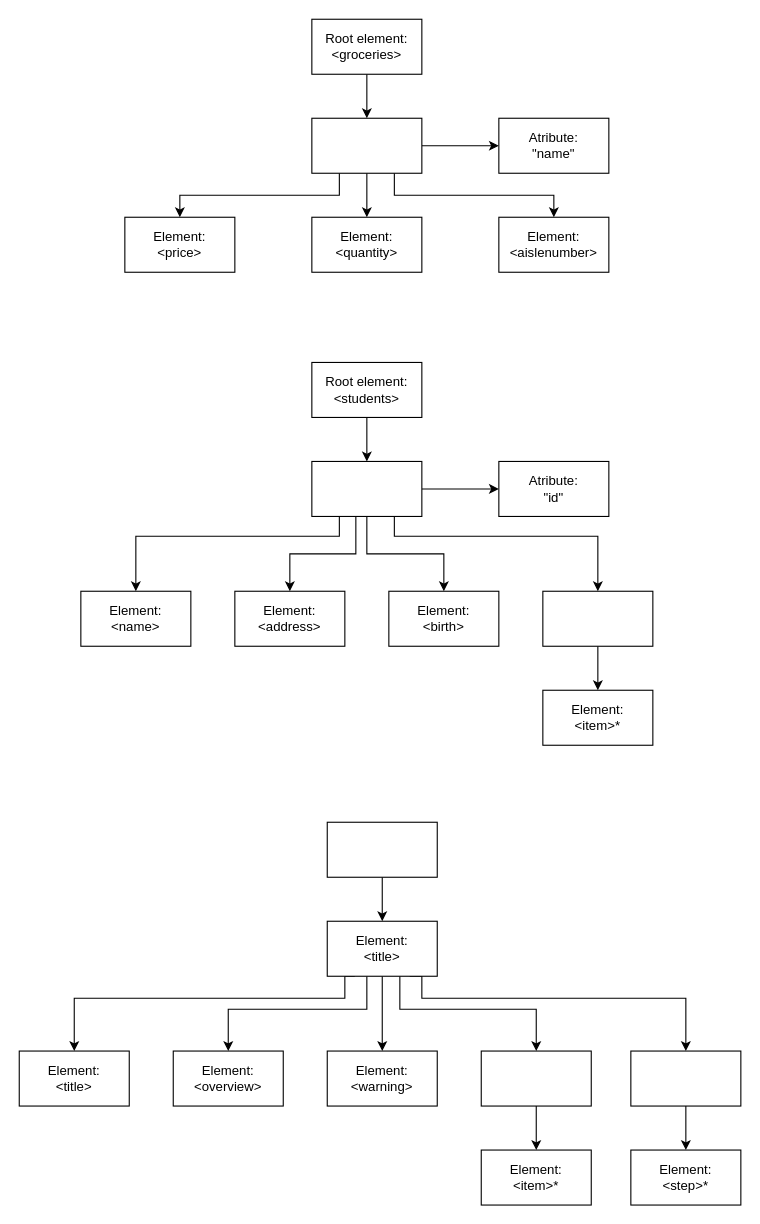
Image size: 760x1224. Some labels were removed from this diagram. Here are the shapes that lost their labels. From the top down, the box of each, then its label:
(311, 117, 422, 173): Element: <book>
(311, 460, 422, 516): Element: <student>
(542, 590, 653, 646): Element: <subjects>
(326, 821, 437, 877): Root element: <procedure>
(480, 1050, 591, 1106): Element: <equipment>
(630, 1050, 741, 1106): Element: <introductions>
